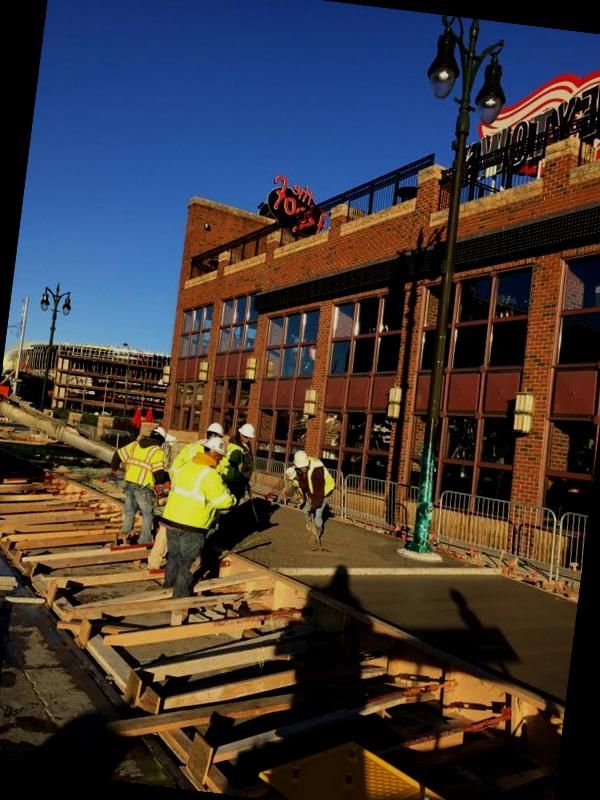person: (152, 432, 226, 607), (113, 418, 172, 543)
